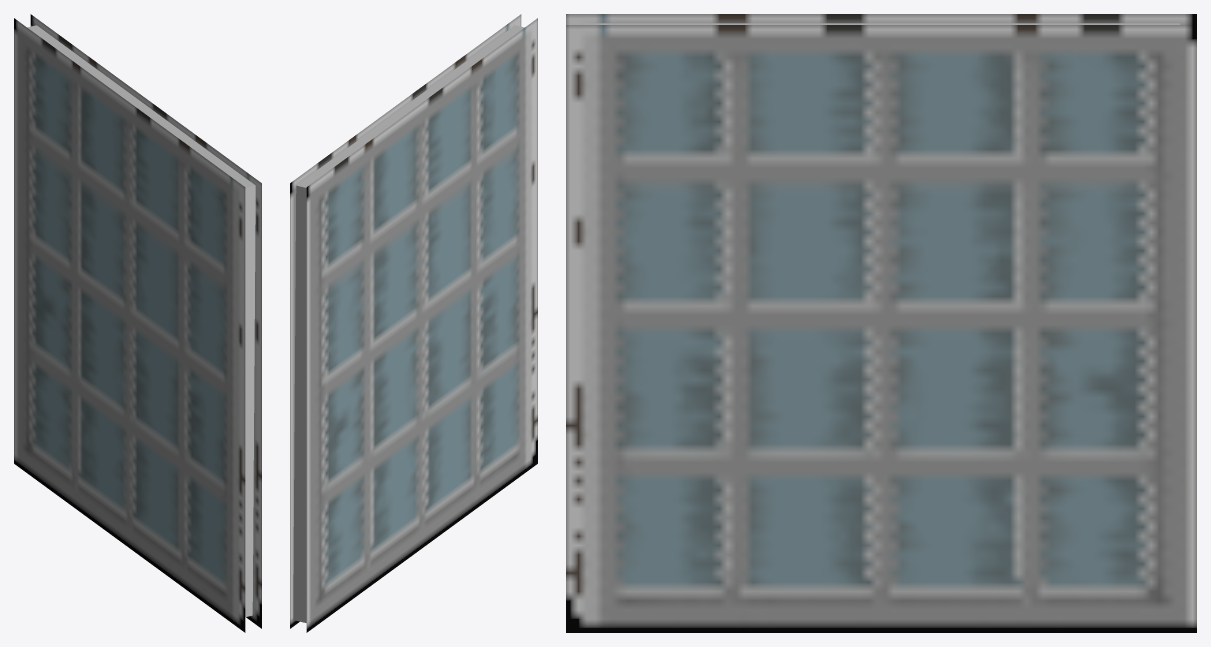
The model's file is pz_native_fixtures_windows_white_26_frame.obj.
The picture shows the model from 3 angles, left to right: view 1: azimuth 30°, elevation 25°; view 2: azimuth 150°, elevation 25°; view 3: azimuth 270°, elevation 25°; orthographic projection. The views are drawn at different scales.
Parts seen in each view (by area): view 1: pz_native_fixtures_windows_white_26_frame; view 2: pz_native_fixtures_windows_white_26_frame; view 3: pz_native_fixtures_windows_white_26_frame.
Part boxes in pixels (x1,y1,x2,y2): pz_native_fixtures_windows_white_26_frame: (14, 14, 261, 632); pz_native_fixtures_windows_white_26_frame: (290, 14, 537, 632); pz_native_fixtures_windows_white_26_frame: (566, 14, 1196, 632).
Bounding box in the file's own units: 0.04 × 1.03 × 0.9696.
1 material, 1 textured.
